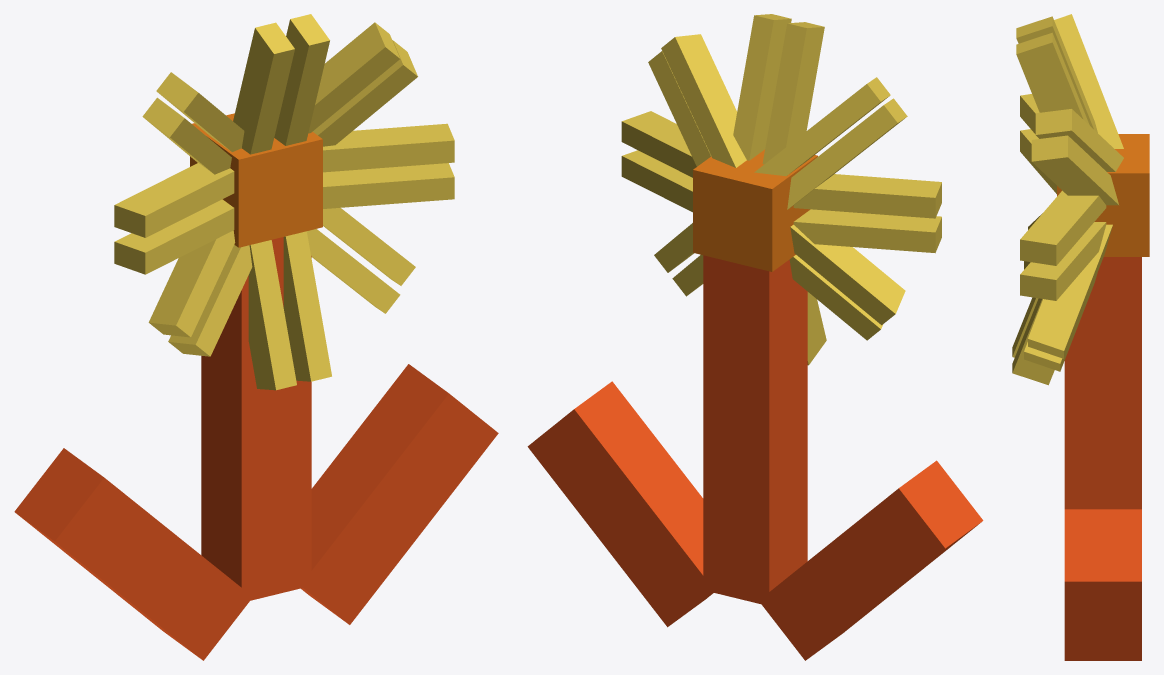
The model's file is SpikeFlower.fbx.
3 renders of one model, left to right at view 1: azimuth 30°, elevation 25°; view 2: azimuth 150°, elevation 25°; view 3: azimuth 270°, elevation 25°, orthographic. The views are drawn at different scales.
Parts seen in each view (by area): view 1: Cube.001, Cube.007, Cube.008; view 2: Cube.001, Cube.007, Cube.008; view 3: Cube.001, Cube.007, Cube.008.
Part boxes in pixels (x1,y1,x2,y2): Cube.001: (14,237,498,660); Cube.007: (114,14,454,390); Cube.008: (190,113,322,247); Cube.001: (527,255,983,660); Cube.007: (621,14,941,365); Cube.008: (693,149,817,271); Cube.001: (1064,257,1141,660); Cube.007: (1012,14,1123,385); Cube.008: (1057,134,1149,256).
Size of the model in its own units: 127 by 171 by 35.54.
